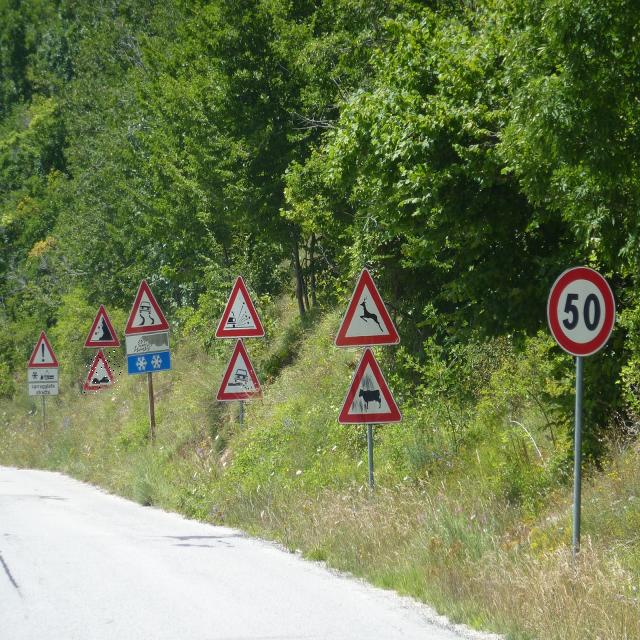hump: (83, 350, 121, 394)
